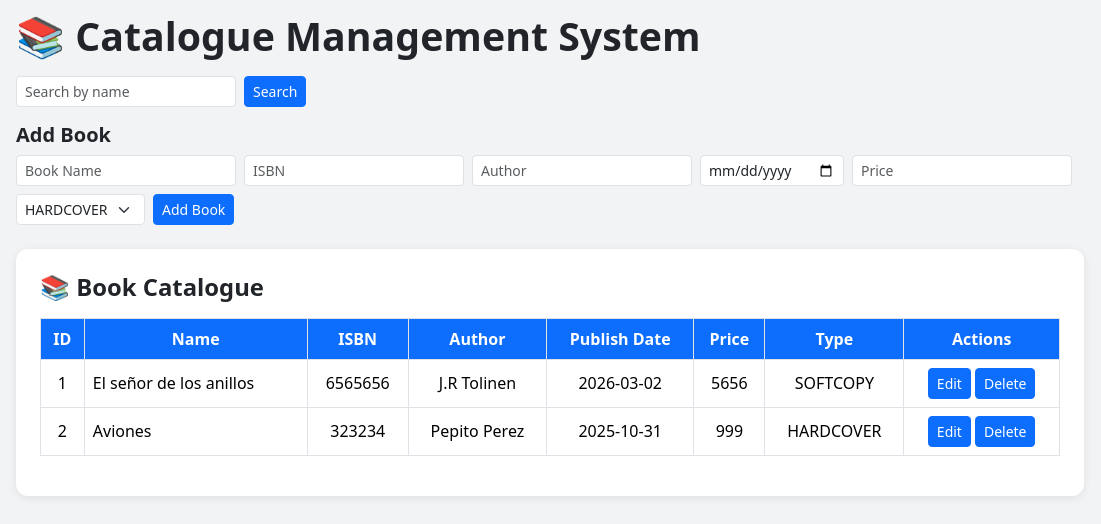
Test case: App (flujo completo CRUD + búsqueda) › eliminar un libro: desaparece de la lista y se confirma la eliminación
What coordinates should you click on to do the following:
click the button "Delete" in the row of "Aviones"
I would click on:
 (1005, 431)
Its box is [975,416,1036,447].
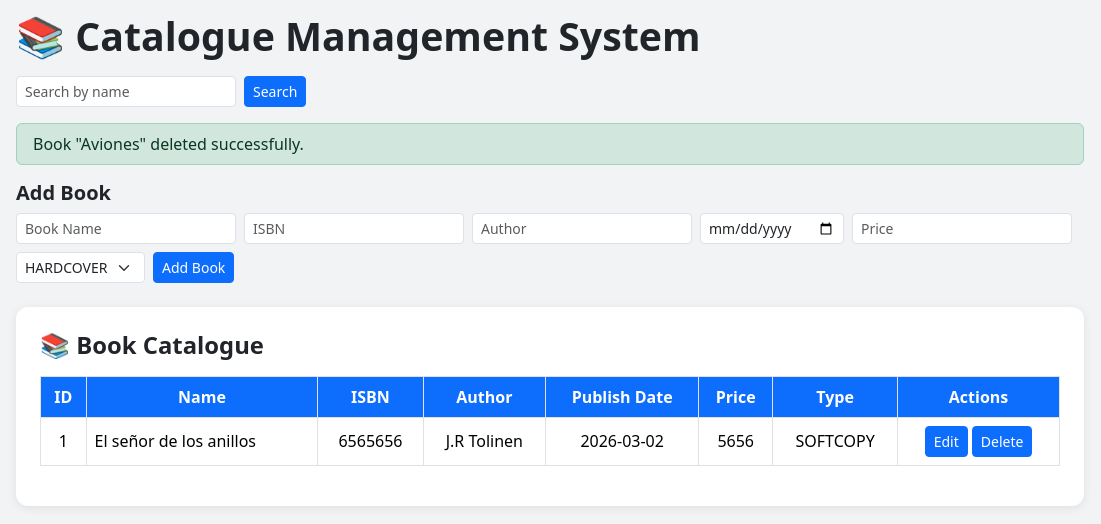
Expected: the text "El señor de los anillos" is shown, [86,417,318,465]
Now the message shows "deleted successfully", box [33,133,304,155]
